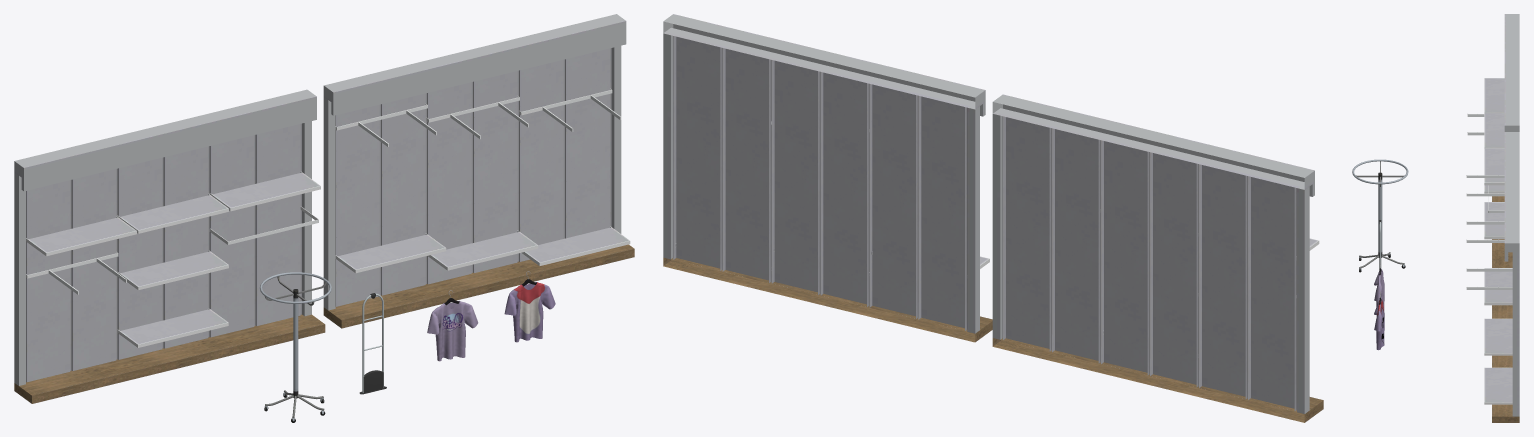
Rendered from store assets.gltf.
3 views of the same model, side by side, from view 1: azimuth 30°, elevation 25°; view 2: azimuth 150°, elevation 25°; view 3: azimuth 270°, elevation 25° (orthographic). The views are drawn at different scales.
Visible parts, largest first — view 1: SM_Rack_04.mo, SM_Rack_05.mo, SM_Clothes_05.mo, SM_Clothes_05.mo.001, SM_Hanger_01.mo, SM_Theft_Protection01.mo; view 2: SM_Rack_05.mo, SM_Rack_04.mo; view 3: SM_Rack_04.mo, SM_Rack_05.mo, SM_Hanger_01.mo, SM_Clothes_05.mo.001, SM_Clothes_05.mo.
Boxes of the visible parts, <box> form: SM_Rack_04.mo: <box>323,14,634,328</box>; SM_Rack_05.mo: <box>14,89,325,403</box>; SM_Clothes_05.mo: <box>427,290,478,361</box>; SM_Clothes_05.mo.001: <box>504,271,555,342</box>; SM_Hanger_01.mo: <box>260,272,331,422</box>; SM_Theft_Protection01.mo: <box>359,293,386,394</box>; SM_Rack_05.mo: <box>992,94,1323,422</box>; SM_Rack_04.mo: <box>663,14,992,342</box>; SM_Rack_04.mo: <box>1466,132,1519,422</box>; SM_Rack_05.mo: <box>1467,14,1519,267</box>; SM_Hanger_01.mo: <box>1352,159,1408,272</box>; SM_Clothes_05.mo.001: <box>1374,291,1384,350</box>; SM_Clothes_05.mo: <box>1374,262,1384,316</box>.
Size of the model in its own units: 7.79 by 2.84 by 2.4.
Materials: 6 (6 with a texture image).
